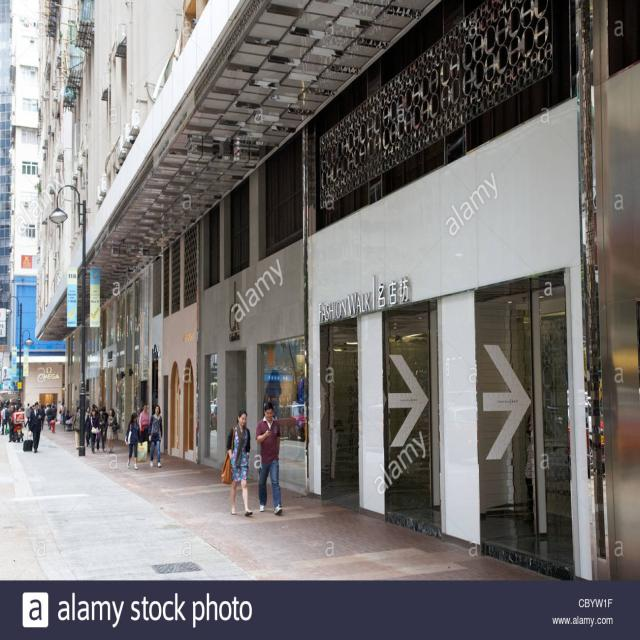body: (219, 408, 254, 517), (253, 401, 284, 517), (125, 412, 143, 471), (147, 403, 163, 468), (101, 406, 121, 454), (26, 401, 44, 454), (85, 407, 102, 455), (7, 404, 25, 444), (138, 402, 150, 452), (95, 407, 107, 453), (70, 405, 81, 451), (84, 406, 92, 448), (102, 406, 110, 445), (0, 398, 23, 410), (44, 403, 54, 430), (0, 403, 8, 436), (62, 409, 73, 430), (24, 402, 31, 428), (58, 400, 65, 424), (40, 405, 46, 430), (42, 403, 48, 428), (52, 401, 58, 422), (7, 406, 13, 418), (92, 402, 97, 413), (30, 404, 35, 409)
